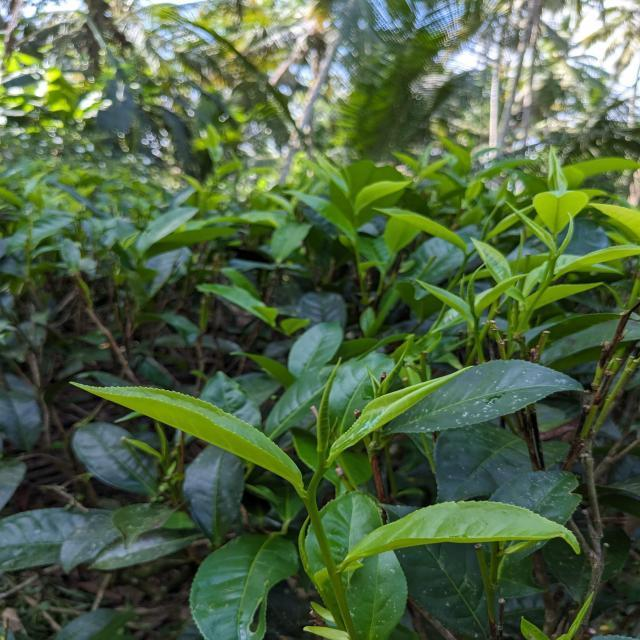Stem: (304, 490, 316, 502), (474, 318, 479, 325), (553, 255, 558, 260), (465, 256, 469, 260)
